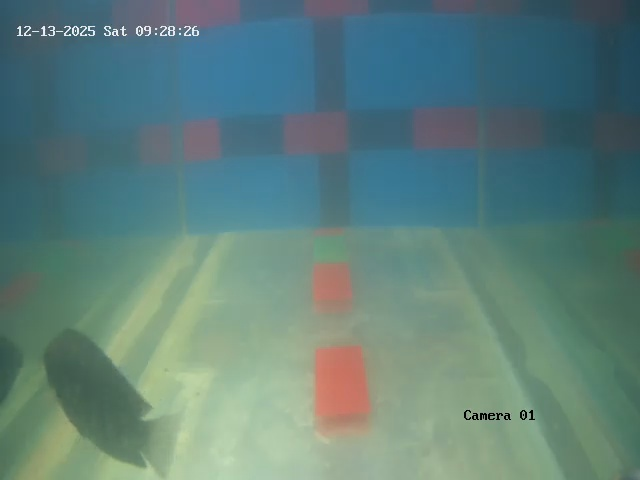fish: (29, 316, 170, 463)
